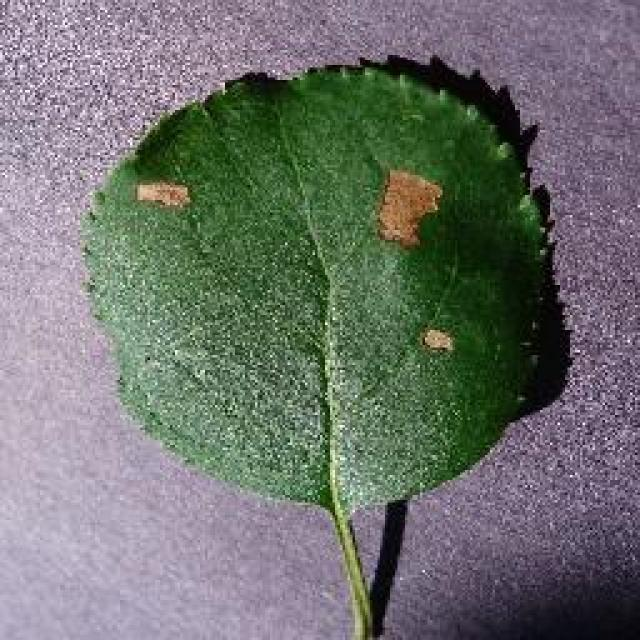Black_rot: (75, 50, 553, 638)
